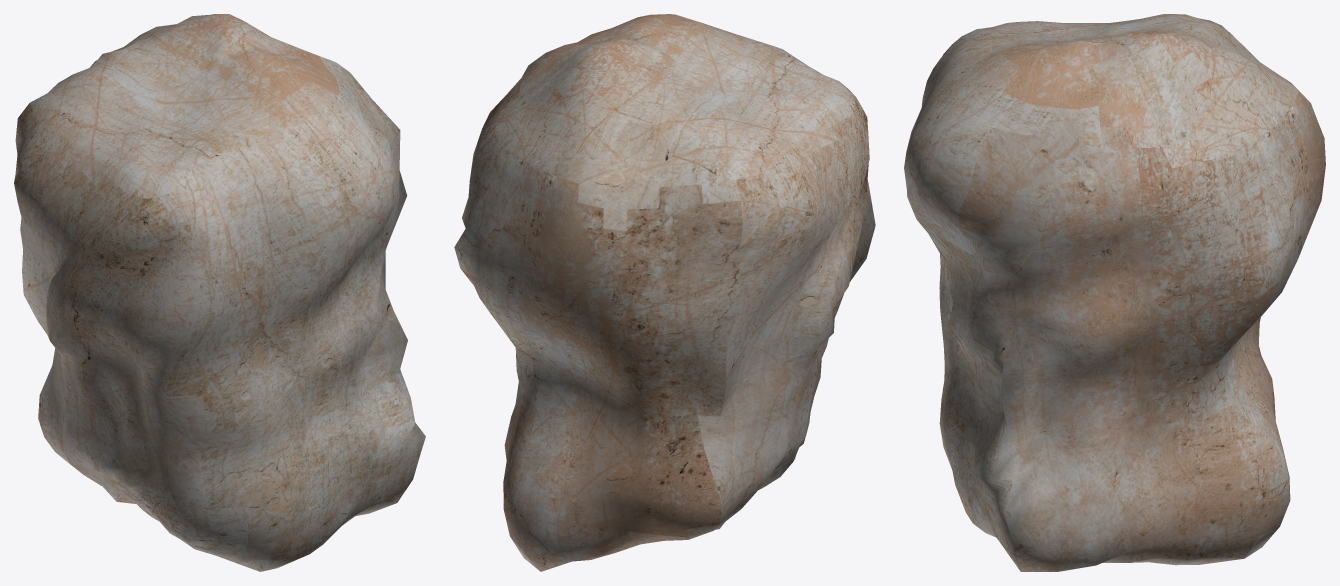
The model's file is sANDmOUNTAINS 1.fbx.
3 renders of one model, left to right at view 1: azimuth 30°, elevation 25°; view 2: azimuth 150°, elevation 25°; view 3: azimuth 270°, elevation 25°, orthographic. The views are drawn at different scales.
Visible parts, largest first — view 1: Landscape; view 2: Landscape; view 3: Landscape.
Boxes of the visible parts, bbox=[...] form: Landscape: bbox=[14, 14, 425, 571]; Landscape: bbox=[454, 14, 875, 571]; Landscape: bbox=[904, 14, 1325, 571].
Bounding box in the file's own units: 224 × 312 × 234.
